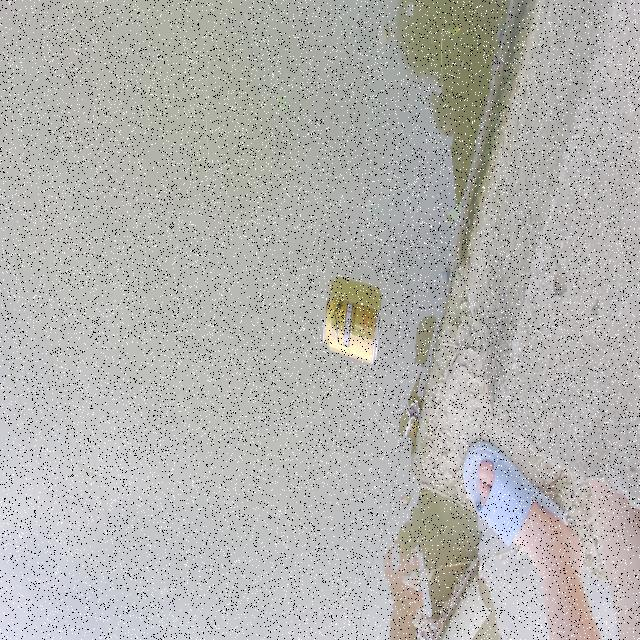Can: (318, 287, 383, 371)
